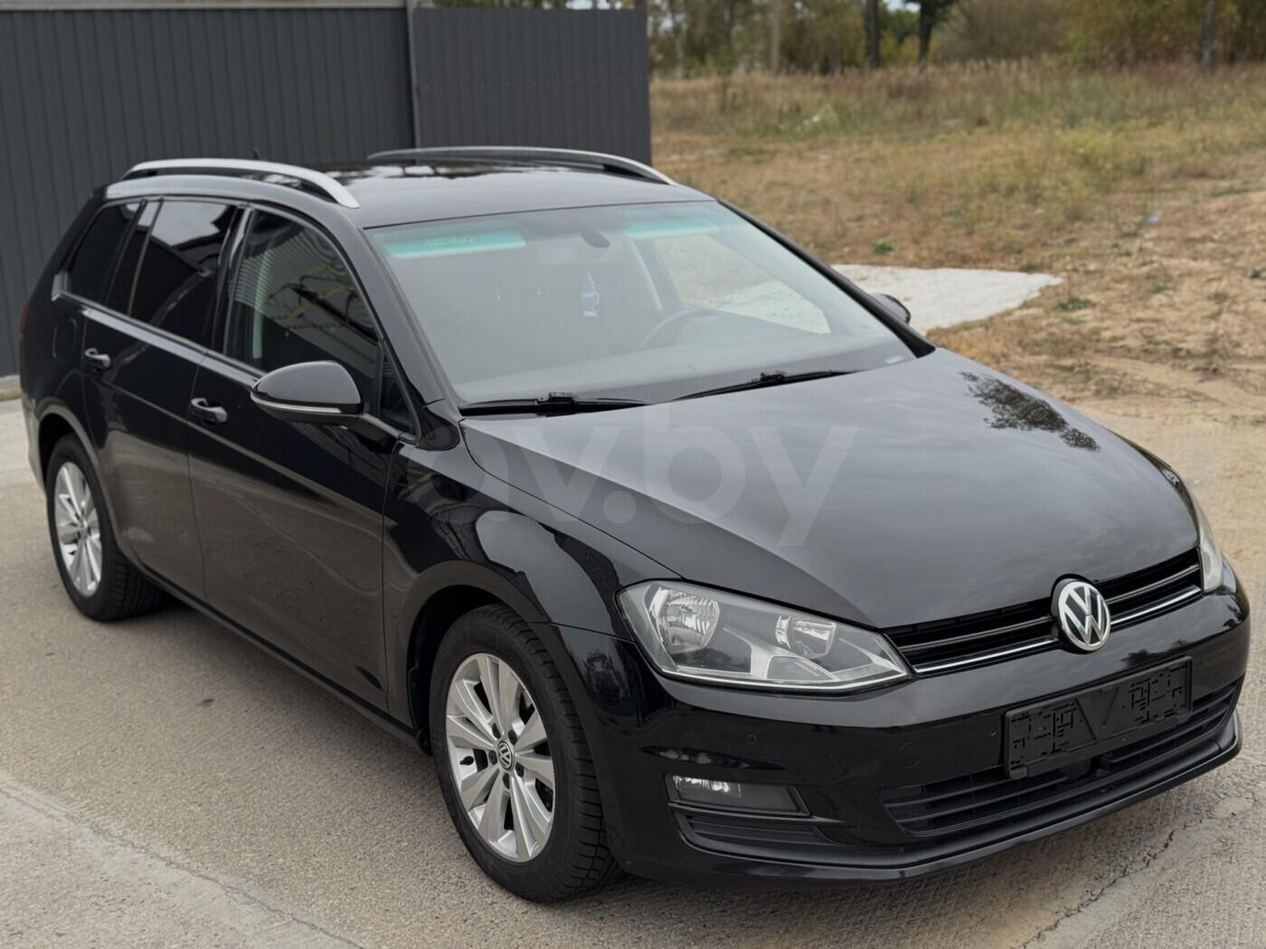Golf_2012-2017: (11, 158, 1259, 899)
